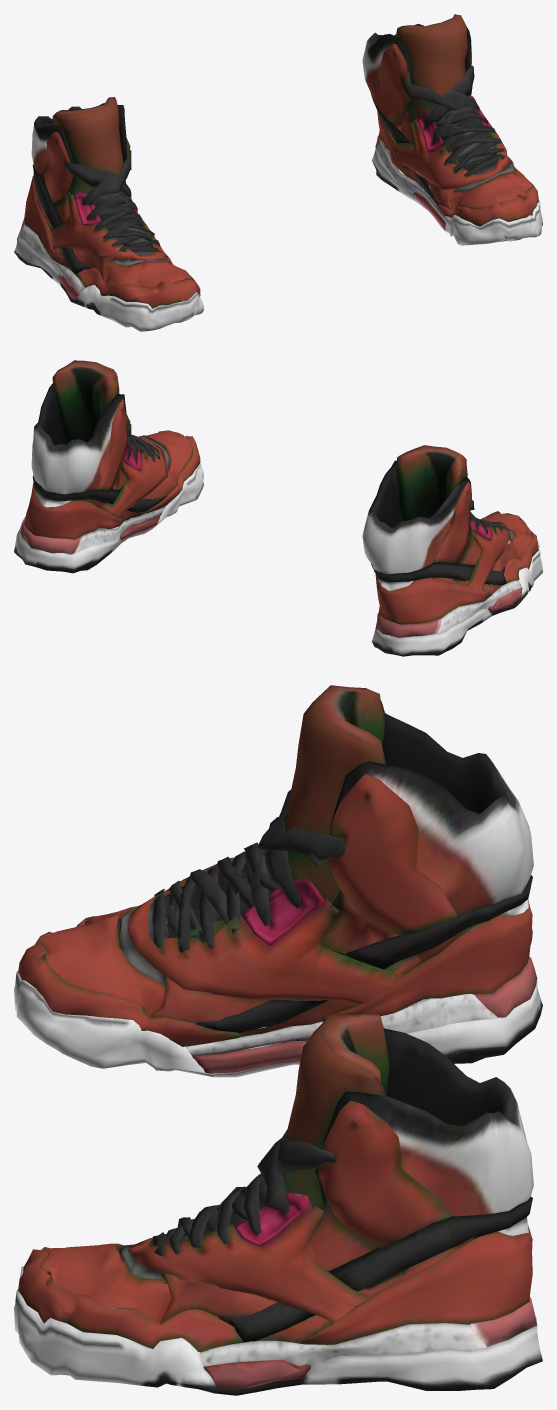
The model's file is culturalibre-sneakers.glb.
The picture shows the model from 3 angles, top to bottom: view 1: azimuth 30°, elevation 25°; view 2: azimuth 150°, elevation 25°; view 3: azimuth 270°, elevation 25°; orthographic projection. The views are drawn at different scales.
Parts seen in each view (by area): view 1: Human.culturalibre_sneakers; view 2: Human.culturalibre_sneakers; view 3: Human.culturalibre_sneakers.
Boxes of the visible parts, box(x1,y1,x2,y2) form: Human.culturalibre_sneakers: box(14, 14, 542, 331); Human.culturalibre_sneakers: box(14, 360, 542, 656); Human.culturalibre_sneakers: box(14, 685, 542, 1395).
Bounding box in the file's own units: 0.4411 × 0.1709 × 0.2338.
Materials: 1 (1 with a texture image).
